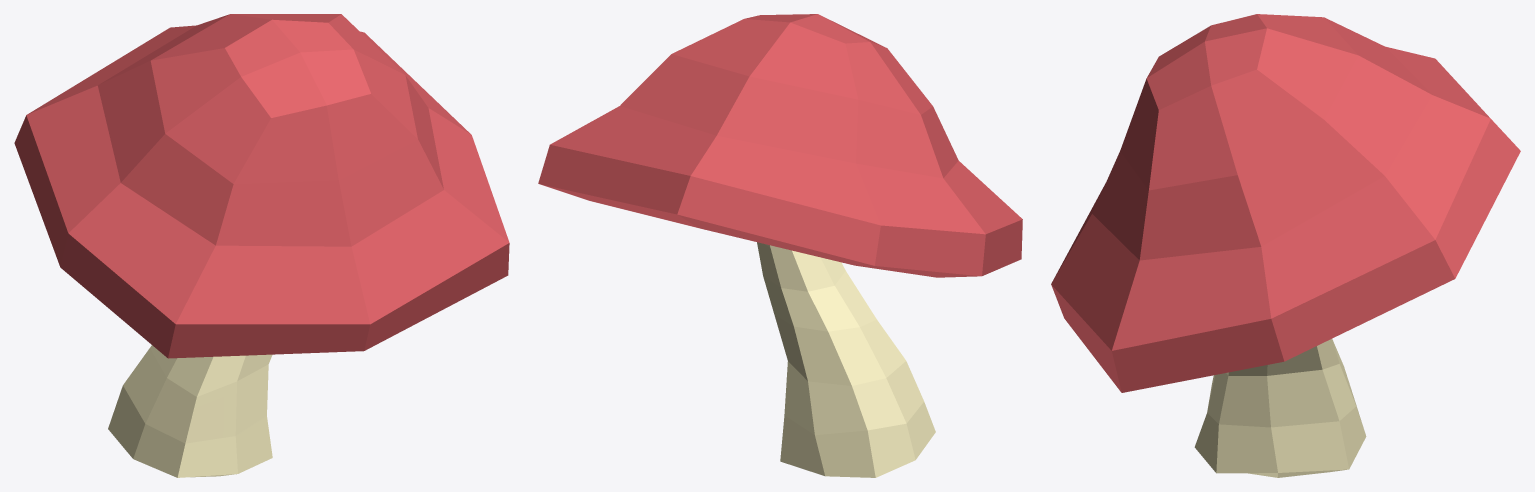
Rendered from mushroom.glb.
3 renders of one model, left to right at view 1: azimuth 30°, elevation 25°; view 2: azimuth 150°, elevation 25°; view 3: azimuth 270°, elevation 25°, orthographic. The views are drawn at different scales.
Parts seen in each view (by area): view 1: Cube.001_1; view 2: Cube.001_1; view 3: Cube.001_1.
Boxes of the visible parts, <box> form: Cube.001_1: <box>14,14,509,477</box>; Cube.001_1: <box>538,14,1022,477</box>; Cube.001_1: <box>1051,14,1520,477</box>.
Bounding box in the file's own units: 0.8262 × 0.8326 × 0.7506.
